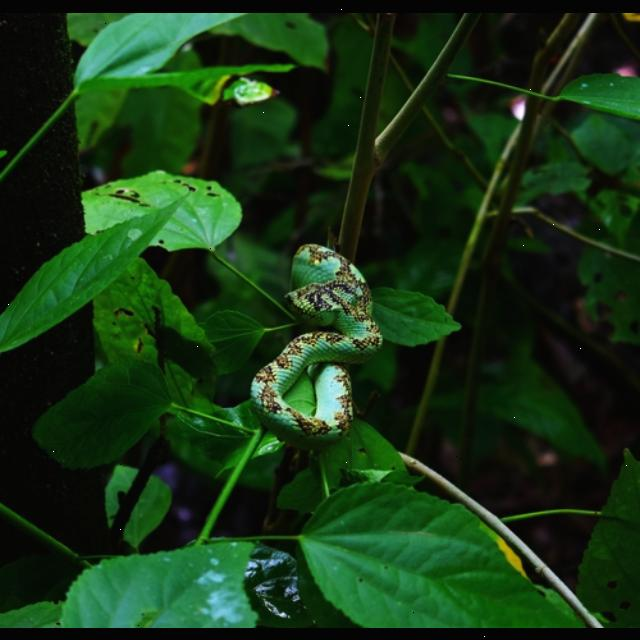snake: (234, 235, 388, 451)
